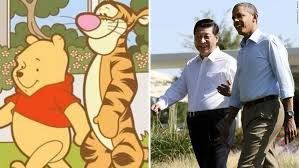Winnie: (9, 31, 75, 130)
